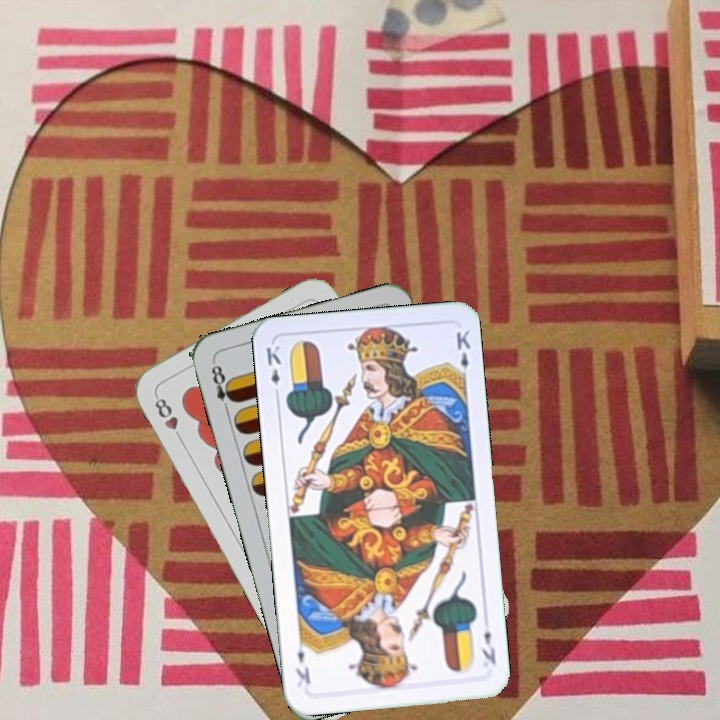E8: (207, 358, 238, 416)
EK: (262, 341, 283, 401), (477, 626, 499, 667)
H8: (150, 390, 186, 445)
